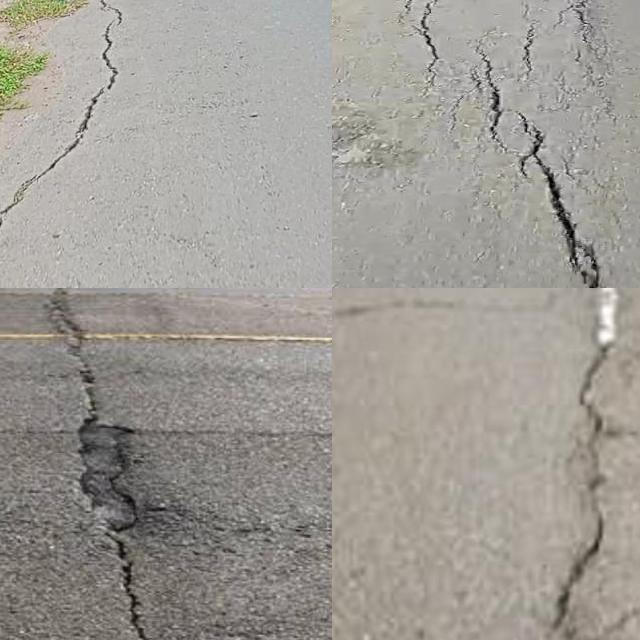Memanjang: (39, 288, 178, 640), (0, 0, 126, 258), (481, 50, 611, 288), (544, 288, 627, 640)
